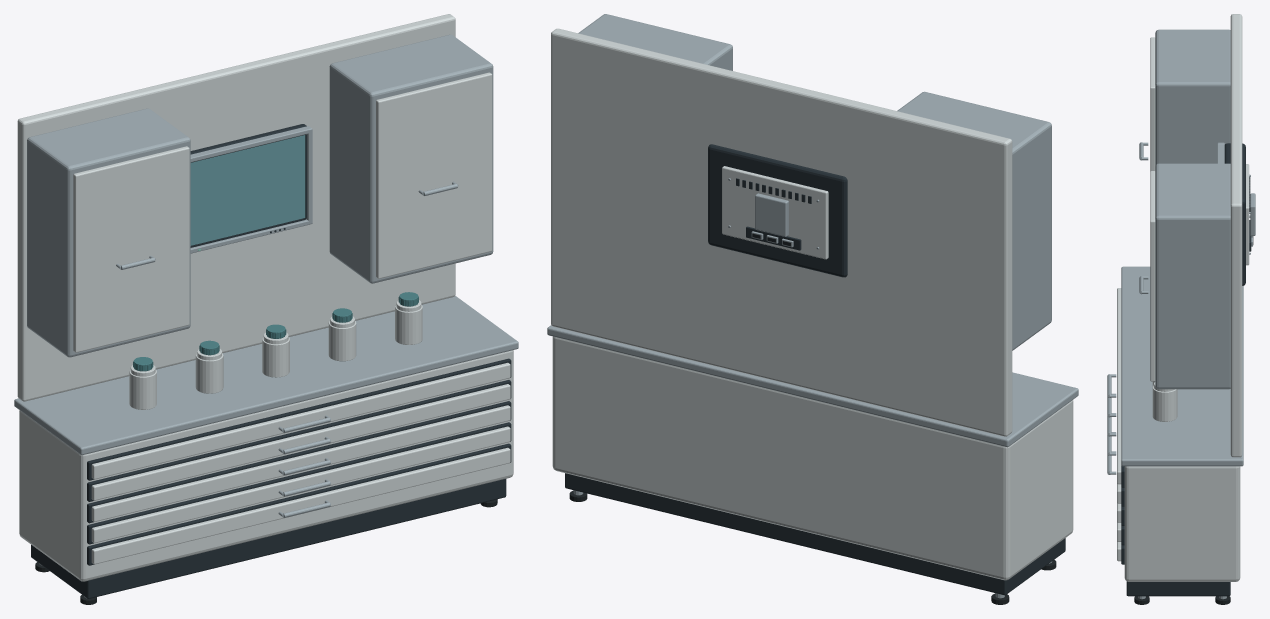
Rendered from RD_ServiceWorkBay.fbx.
3 views of the same model, side by side, from view 1: azimuth 30°, elevation 25°; view 2: azimuth 150°, elevation 25°; view 3: azimuth 270°, elevation 25° (orthographic). The views are drawn at different scales.
Visible parts, largest first — view 1: RD_ServiceWorkBay; view 2: RD_ServiceWorkBay; view 3: RD_ServiceWorkBay.
Boxes of the visible parts, x1,y1,x2,y2 form: RD_ServiceWorkBay: [14, 14, 518, 604]; RD_ServiceWorkBay: [547, 14, 1078, 604]; RD_ServiceWorkBay: [1107, 14, 1255, 604].
Size of the model in its own units: 238 by 231 by 76.8.
